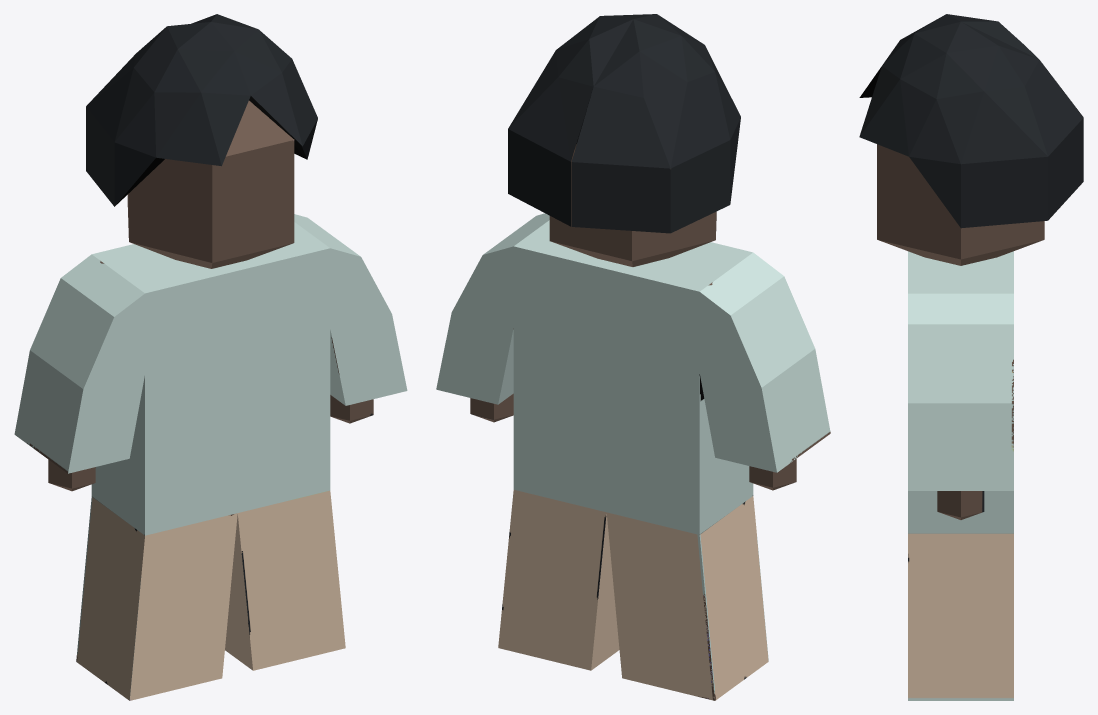
File: person_04.glb
3 views of the same model, side by side, from view 1: azimuth 30°, elevation 25°; view 2: azimuth 150°, elevation 25°; view 3: azimuth 270°, elevation 25° (orthographic).
Visible parts, largest first — view 1: KidB; view 2: KidB; view 3: KidB.
Boxes of the visible parts, x1=… form: KidB: x1=14, y1=14, x2=407, y2=700; KidB: x1=436, y1=14, x2=830, y2=700; KidB: x1=859, y1=14, x2=1083, y2=700.
Size of the model in its own units: 1.32 by 2.35 by 0.7626.
Materials: 1 (1 with a texture image).
